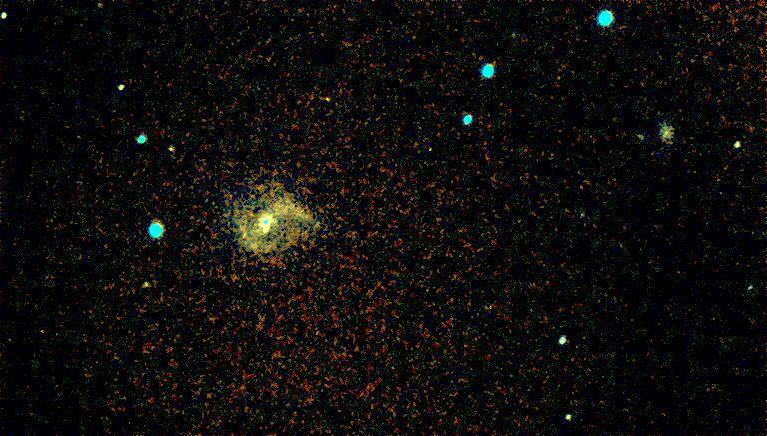star: (312, 86, 342, 116)
